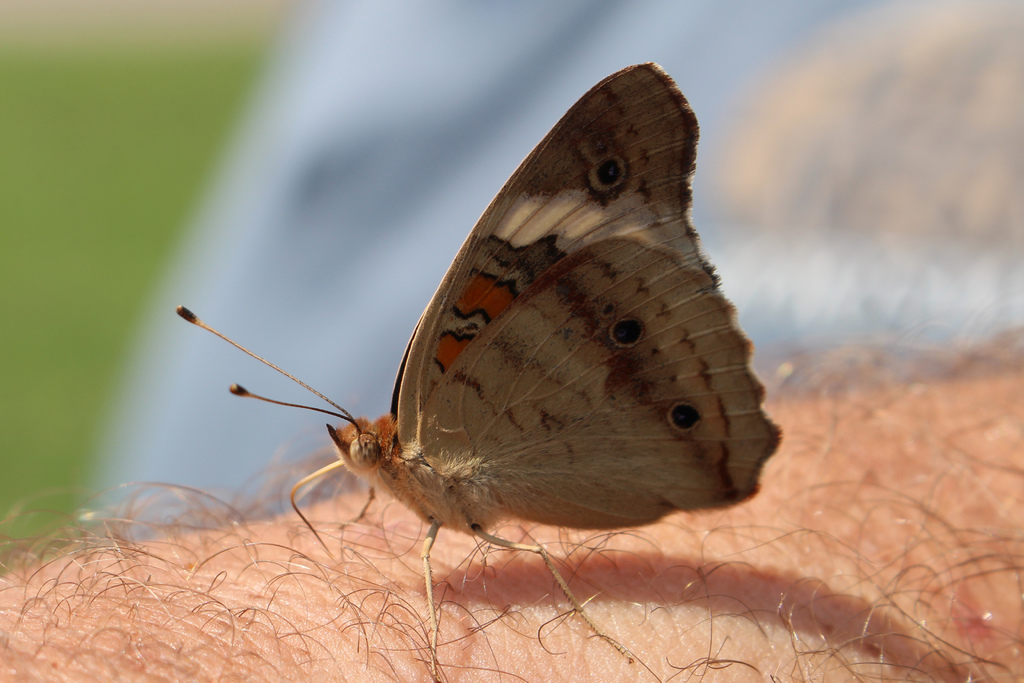Butterfly: (227, 57, 768, 616)
